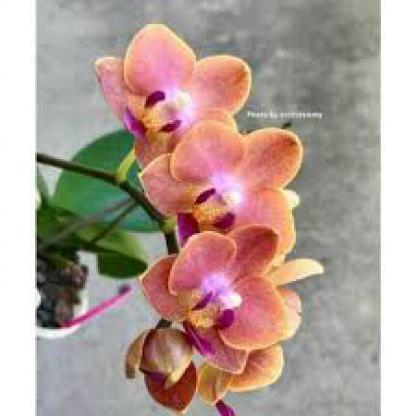ANGGREK: (86, 21, 321, 408)
